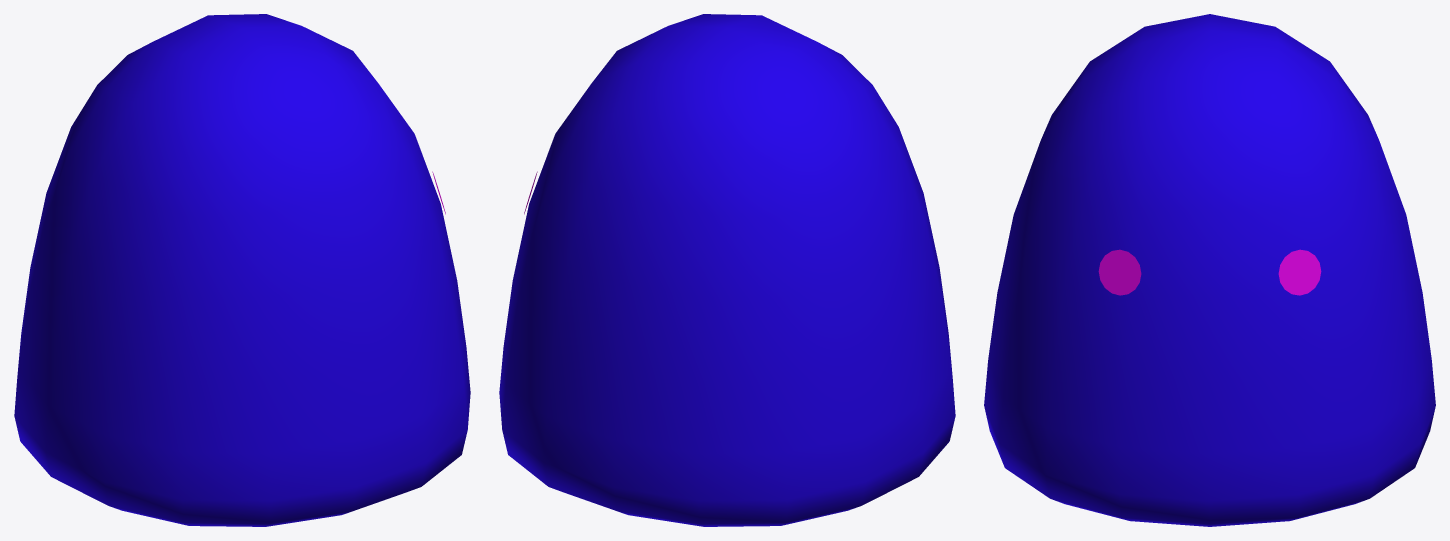
Rendered from Slime.fbx.
3 renders of one model, left to right at view 1: azimuth 30°, elevation 25°; view 2: azimuth 150°, elevation 25°; view 3: azimuth 270°, elevation 25°, orthographic.
Parts seen in each view (by area): view 1: Plane; view 2: Plane; view 3: Plane.
Boxes of the visible parts, box(x1,y1,x2,y2) form: Plane: box(14, 14, 470, 526); Plane: box(499, 14, 955, 526); Plane: box(984, 14, 1435, 526).
Size of the model in its own units: 1.79 by 1.84 by 1.79.
